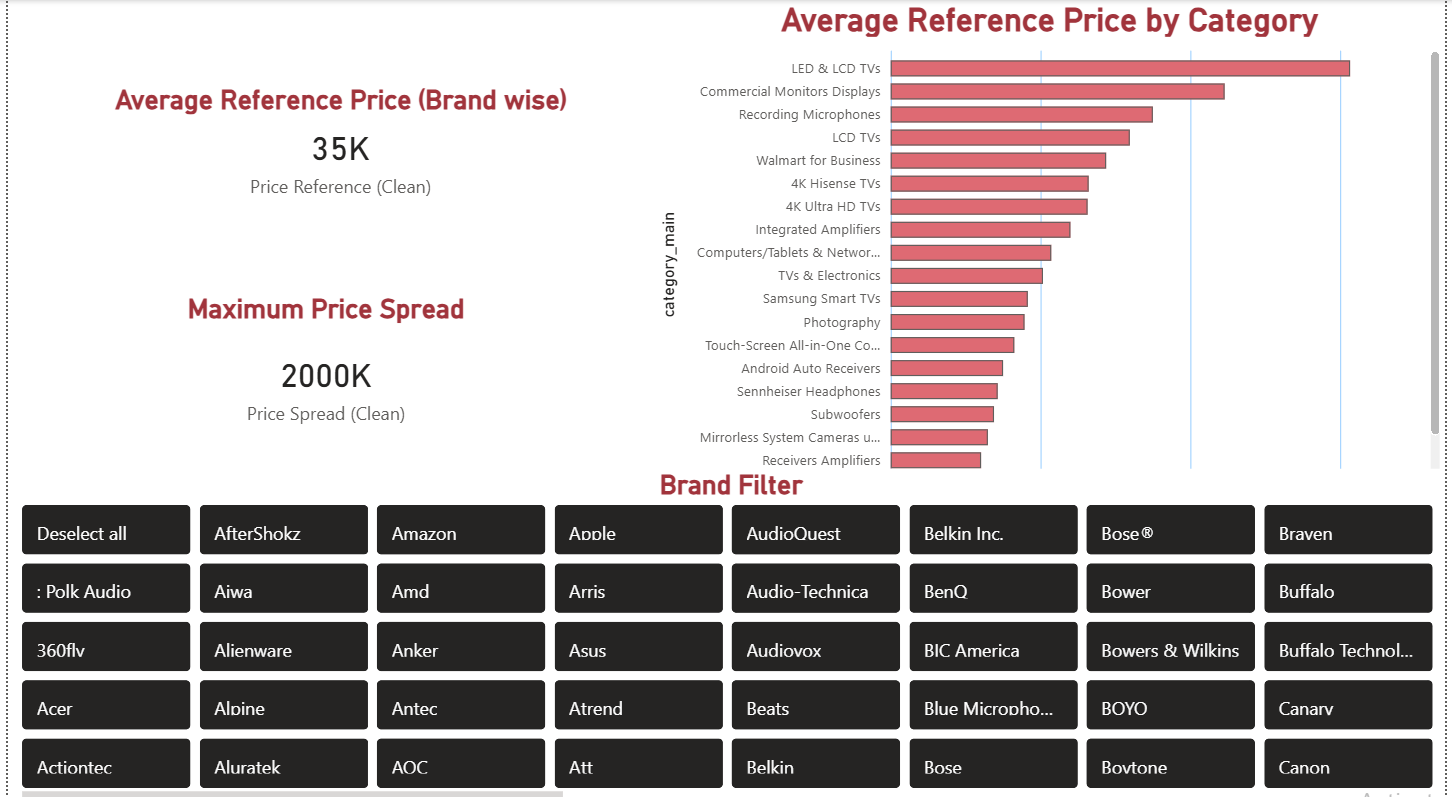

The dashboard page shown, as its layout file describes it:
{"tool":"powerbi","page":{"name":"Page 1","canvas":[1280,720],"ordinal":0},"visuals":[{"type":"card","title":"Average Reference Price (Brand wise)","fields":{"Values":["pricing_benchmark_input.Price Reference (Clean)"]},"box":[16.3,74.4,559.3,107],"z":0},{"type":"card","title":"Maximum Price Spread","fields":{"Values":["pricing_benchmark_input.Price Spread (Clean)"]},"box":[34.9,260.5,497.7,139.5],"z":1000},{"type":"clusteredBarChart","title":"Average Reference Price by Category","fields":{"Category":["pricing_benchmark_input.category_main"],"Y":["pricing_benchmark_input.Price Reference (Clean)"]},"box":[575.6,0,704.7,468.6],"z":2000},{"type":"advancedSlicerVisual","title":"Brand Filter","fields":{"Values":["pricing_benchmark_input.brand"]},"box":[7.8,417.2,1272.5,302.8],"z":2001}]}

Visuals, with their boxes in screenshot pixels (x1, y1, x2, y2), scaled from the page's 1280x720 canvas onto the 1452x797 screenshot:
"Average Reference Price (Brand wise)" card: crop(18, 82, 653, 201)
"Maximum Price Spread" card: crop(40, 288, 604, 443)
"Average Reference Price by Category" clusteredBarChart: crop(653, 0, 1451, 519)
"Brand Filter" advancedSlicerVisual: crop(9, 462, 1451, 796)
